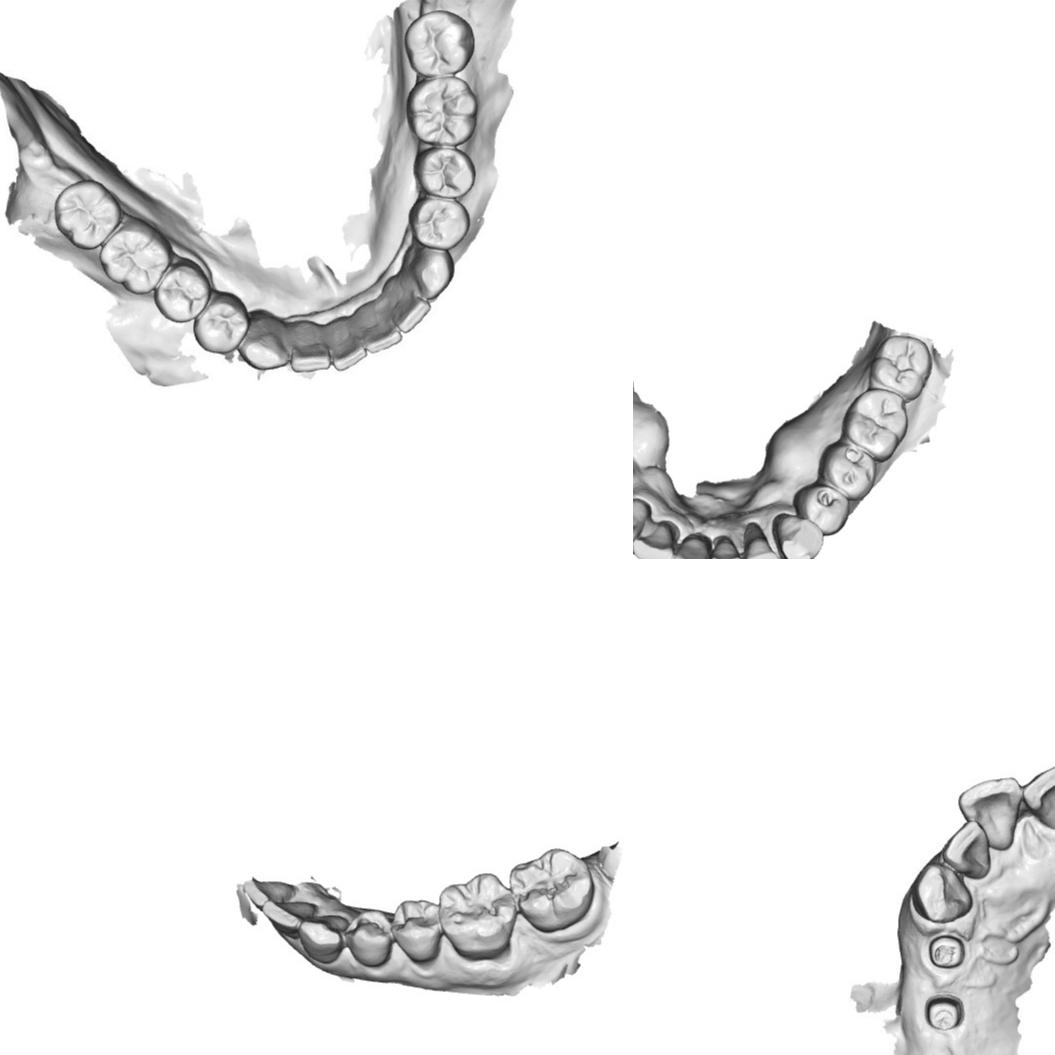canine: (910, 860, 972, 924), (236, 308, 290, 372), (399, 242, 453, 302), (297, 913, 352, 964), (771, 511, 828, 559), (633, 496, 650, 550)
implant: (920, 990, 971, 1039), (925, 935, 969, 969)
incisor: (957, 775, 1024, 852), (944, 820, 994, 881), (287, 317, 336, 375), (329, 312, 371, 375), (1020, 758, 1055, 831), (390, 283, 431, 337), (261, 898, 318, 936), (363, 305, 403, 357), (239, 878, 299, 909), (633, 520, 678, 559), (739, 523, 779, 559), (669, 532, 711, 559), (706, 538, 744, 559)
molar: (508, 845, 597, 936), (437, 871, 516, 963), (97, 223, 175, 295), (400, 8, 475, 79), (406, 74, 476, 148), (841, 387, 909, 463), (52, 177, 121, 249), (868, 332, 933, 398)
premolar: (152, 258, 212, 326), (407, 145, 476, 201), (390, 896, 444, 967), (408, 195, 471, 252), (192, 290, 248, 354), (822, 443, 879, 500), (796, 481, 849, 539), (344, 907, 394, 968)
